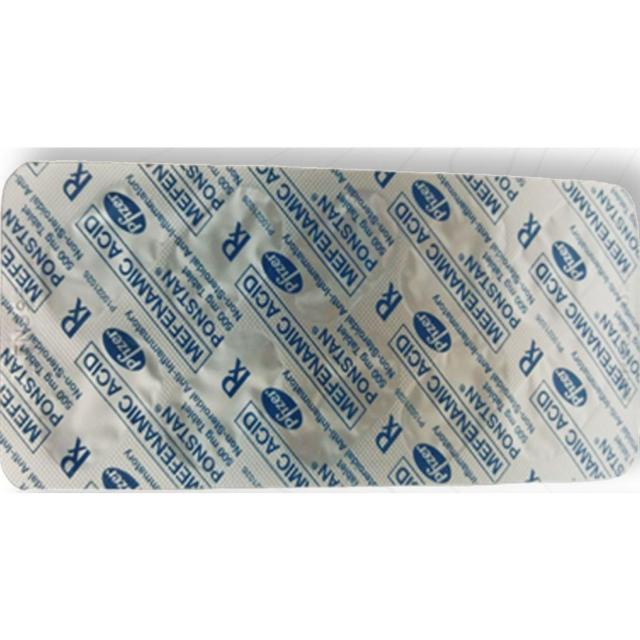blister: (1, 156, 638, 487)
